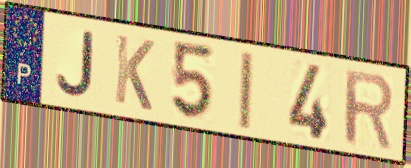4: (286, 60, 333, 143)
5: (171, 38, 217, 124)
I: (236, 49, 256, 132)
J: (54, 29, 96, 100)
K: (111, 31, 157, 115)
R: (342, 67, 396, 153)
